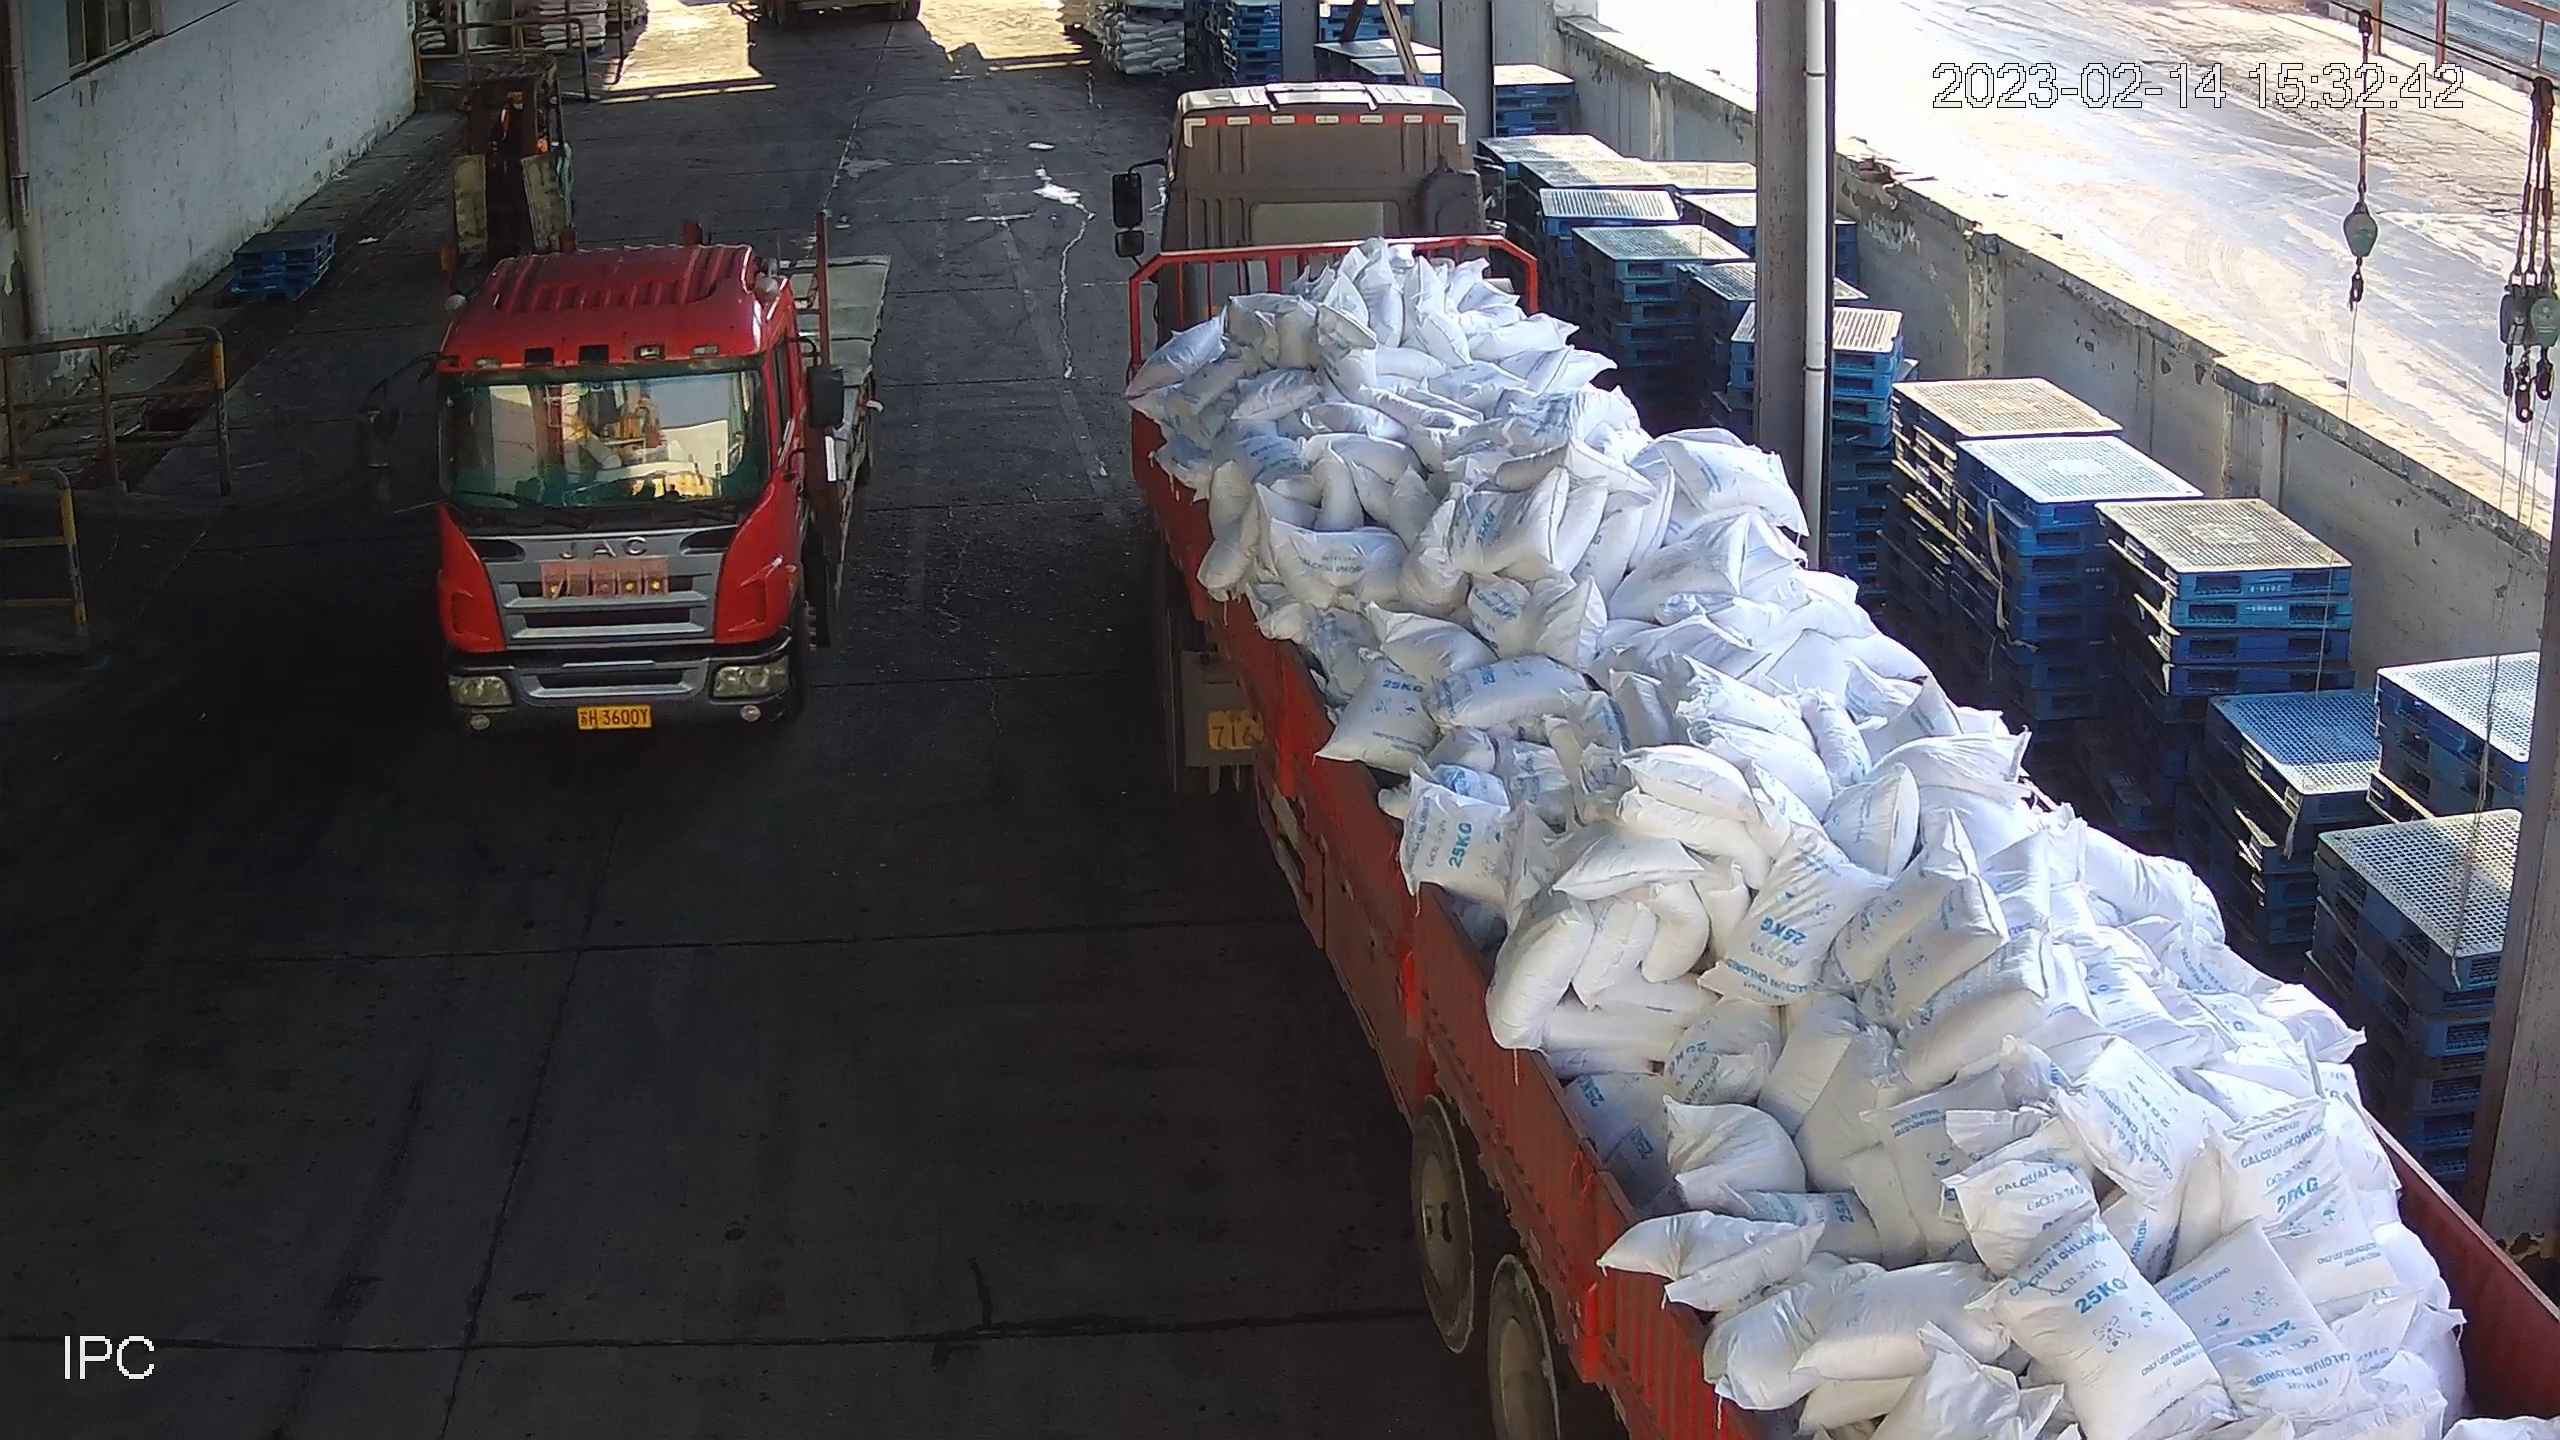truck: (1111, 63, 2560, 1440), (427, 229, 893, 745)
